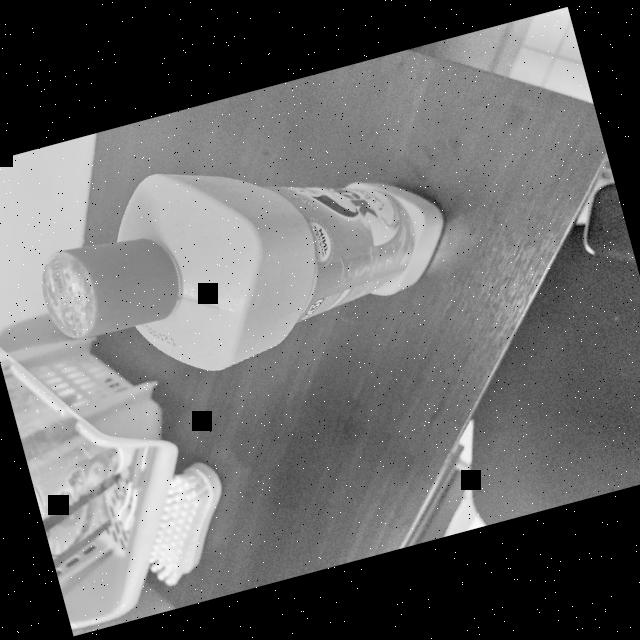chemical_plastic_bottle: (13, 99, 468, 410)
